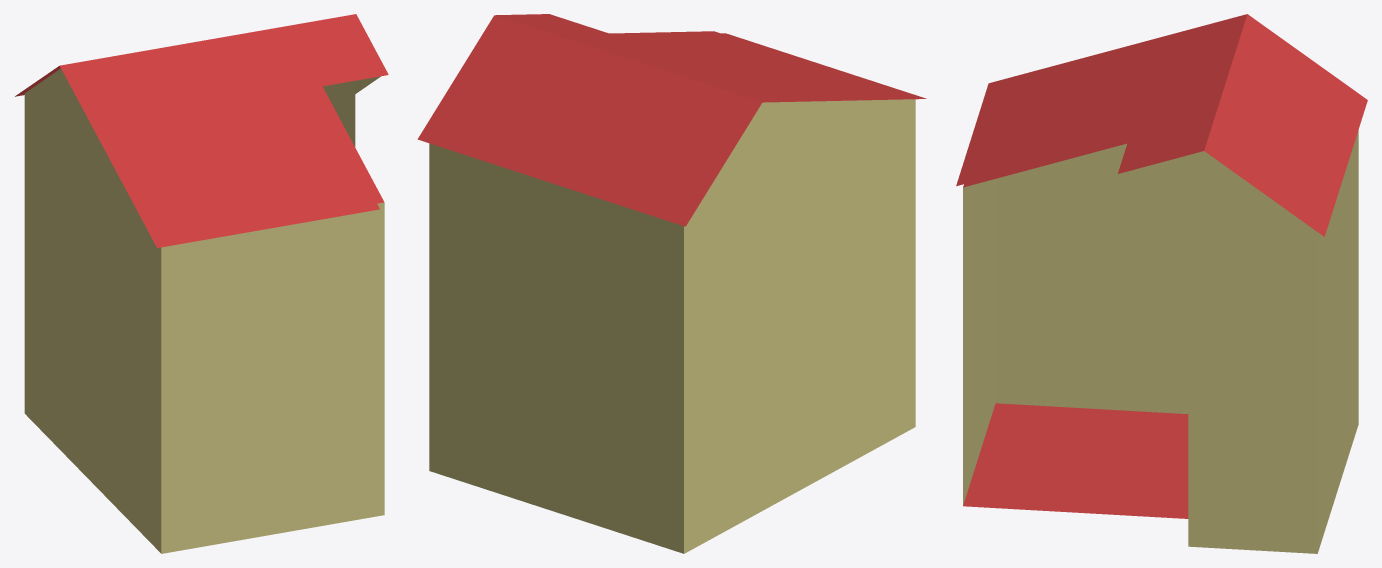
The picture shows the model from 3 angles, left to right: view 1: azimuth 30°, elevation 25°; view 2: azimuth 150°, elevation 25°; view 3: azimuth 270°, elevation 25°; orthographic projection. The views are drawn at different scales.
Size of the model in its own units: 11.51 by 12.65 by 13.55.
